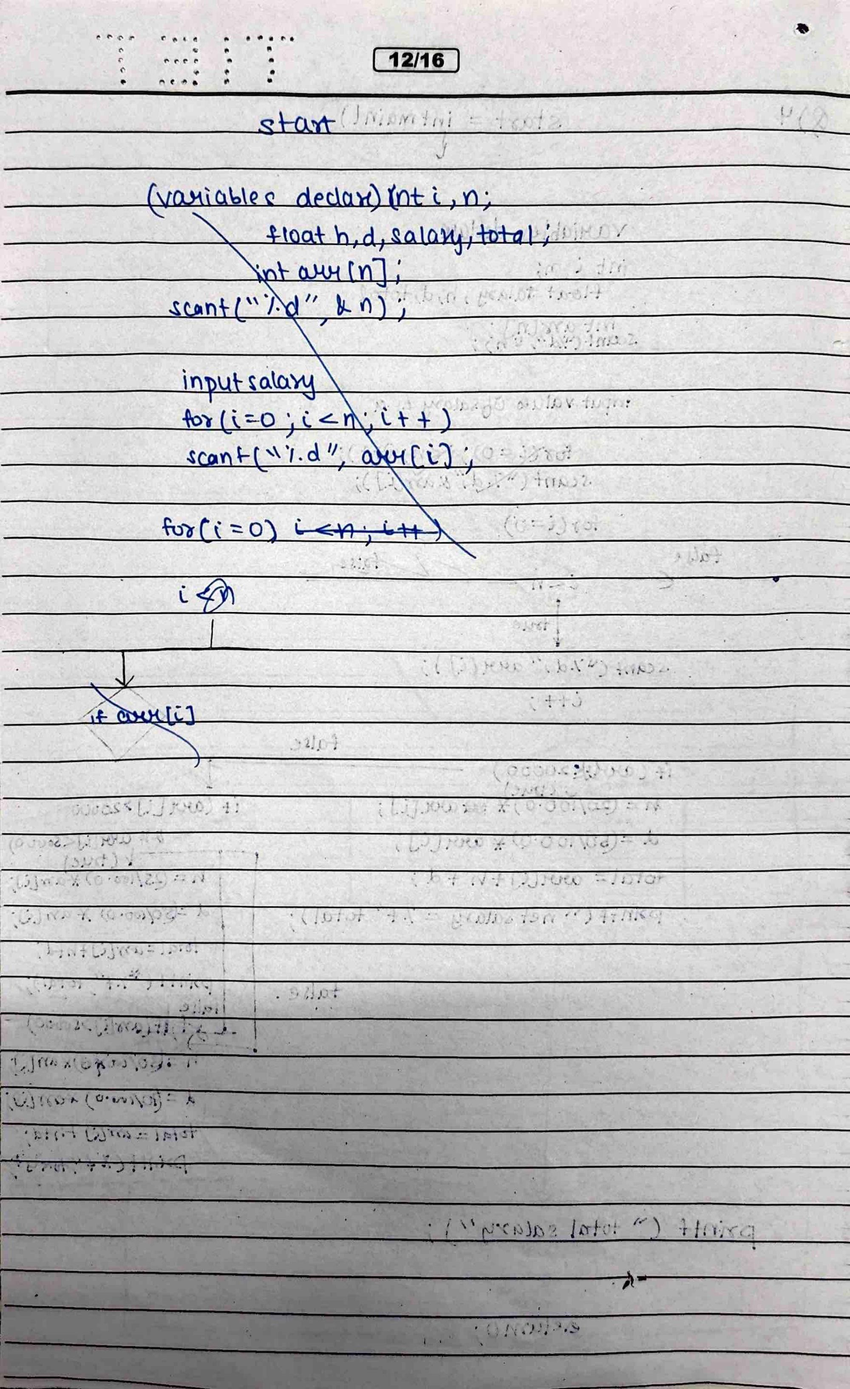cuttings: (144, 179, 554, 563), (89, 677, 202, 770), (175, 574, 243, 616)
